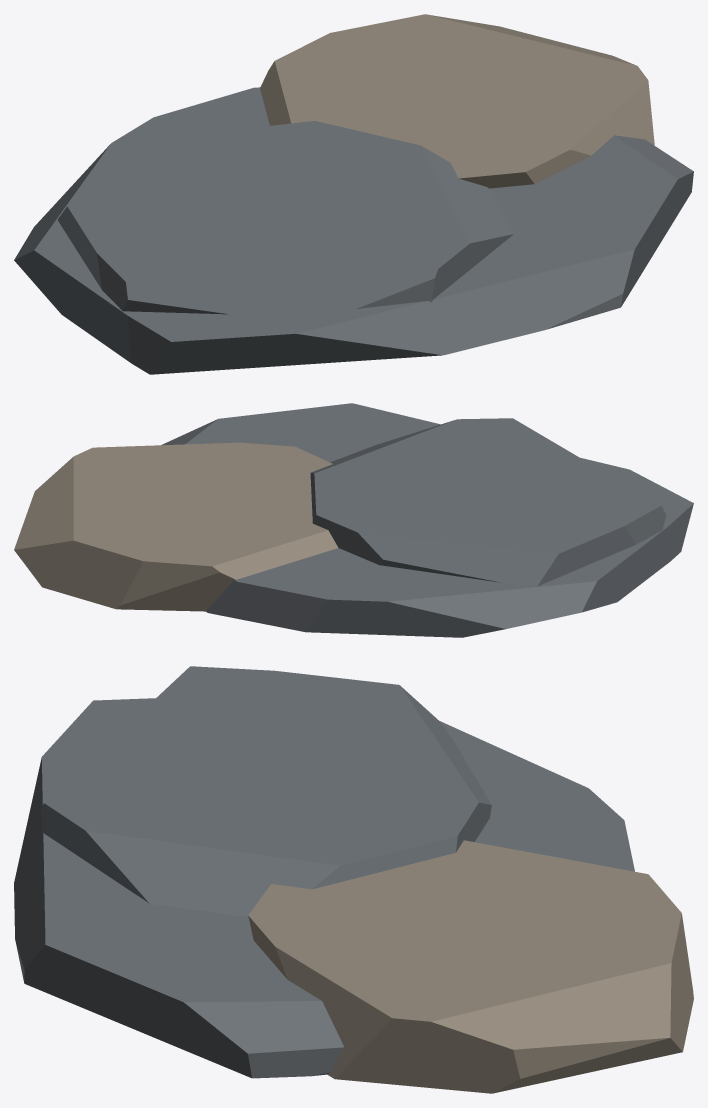
Rendered from mdvl_nature_slab_01.glb.
3 renders of one model, top to bottom at view 1: azimuth 30°, elevation 25°; view 2: azimuth 150°, elevation 25°; view 3: azimuth 270°, elevation 25°, orthographic. The views are drawn at different scales.
Parts seen in each view (by area): view 1: mdvl_nature_slab_01; view 2: mdvl_nature_slab_01; view 3: mdvl_nature_slab_01.
Part boxes in pixels (x1,y1,x2,y2): mdvl_nature_slab_01: (14, 14, 693, 374); mdvl_nature_slab_01: (14, 403, 693, 637); mdvl_nature_slab_01: (14, 666, 693, 1093).
Bounding box in the file's own units: 1.61 × 0.18 × 1.31.
Materials: 1 (1 with a texture image).
